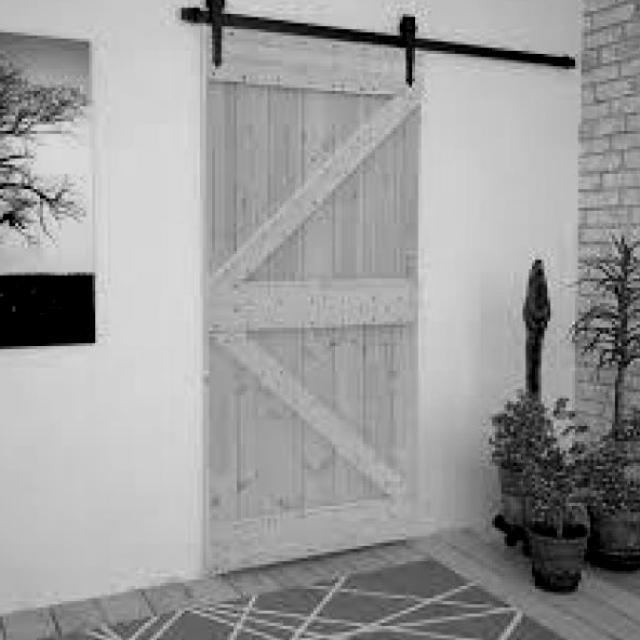door: (182, 11, 434, 591)
